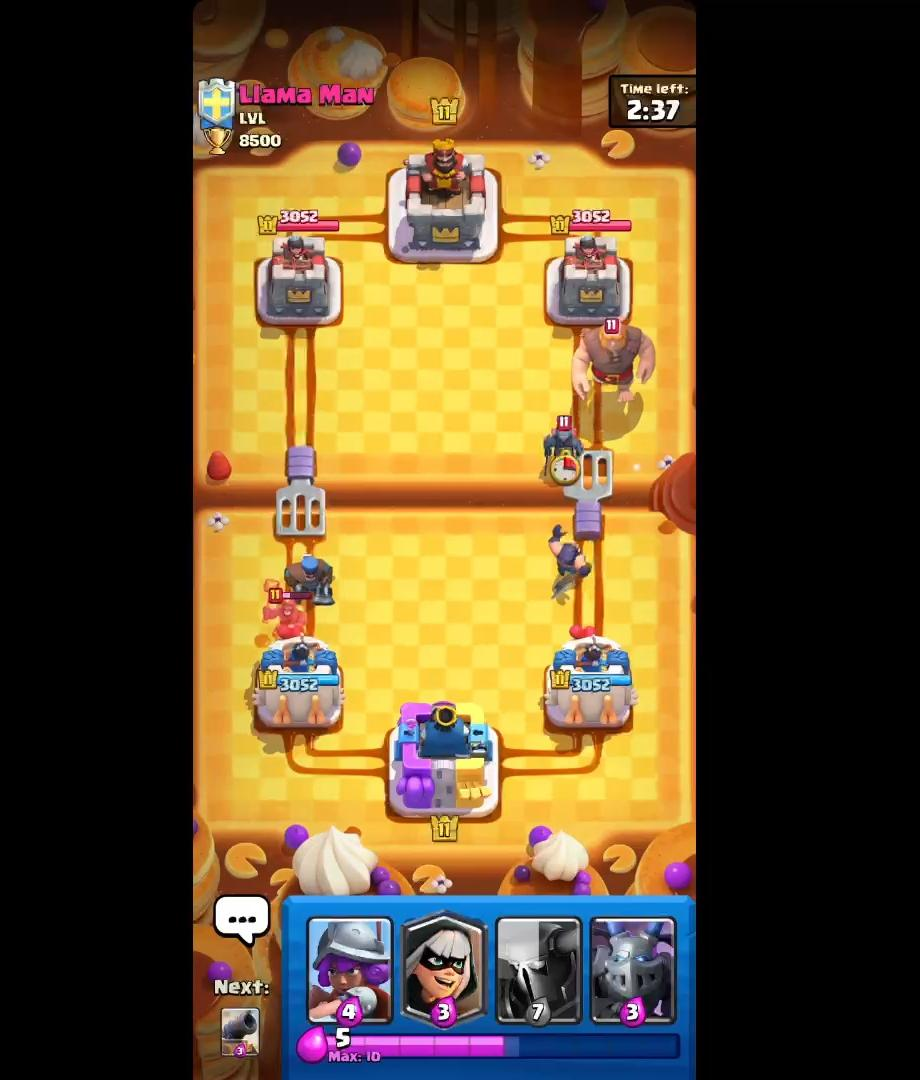Giant: (570, 318, 656, 409)
Hog Rider: (250, 578, 316, 650)
